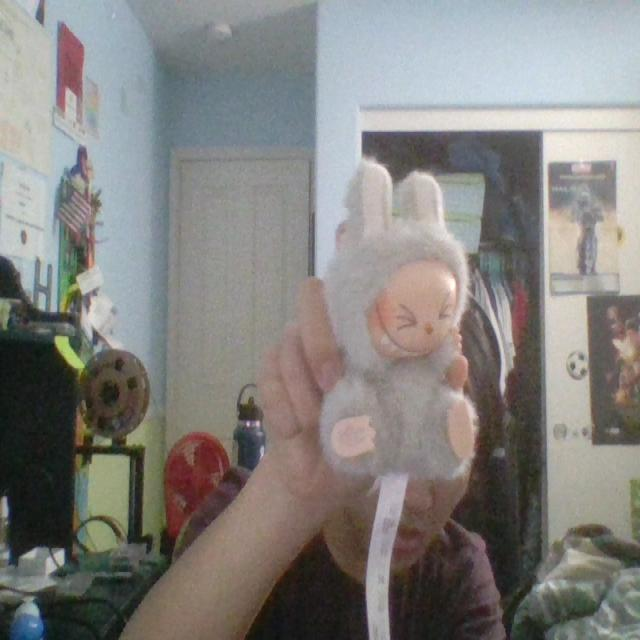labubu: (320, 160, 476, 481)
